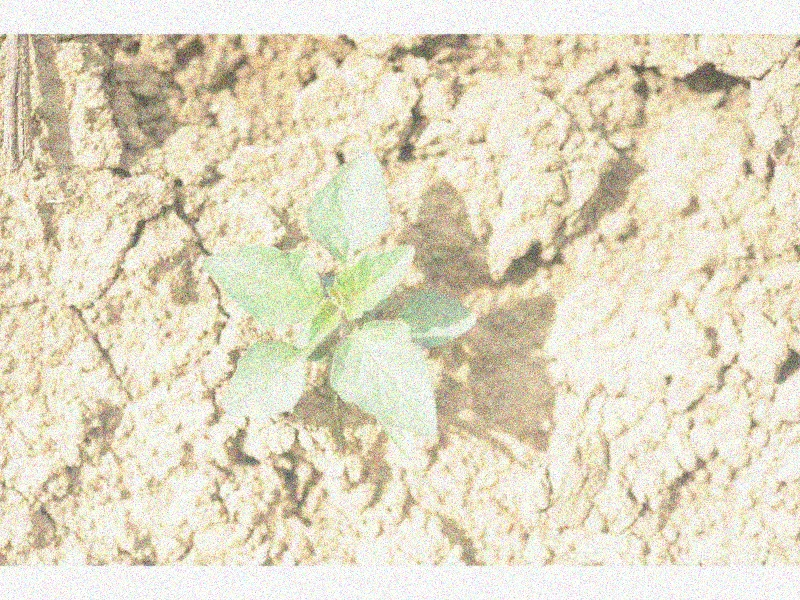nightshade: (203, 148, 475, 436)
